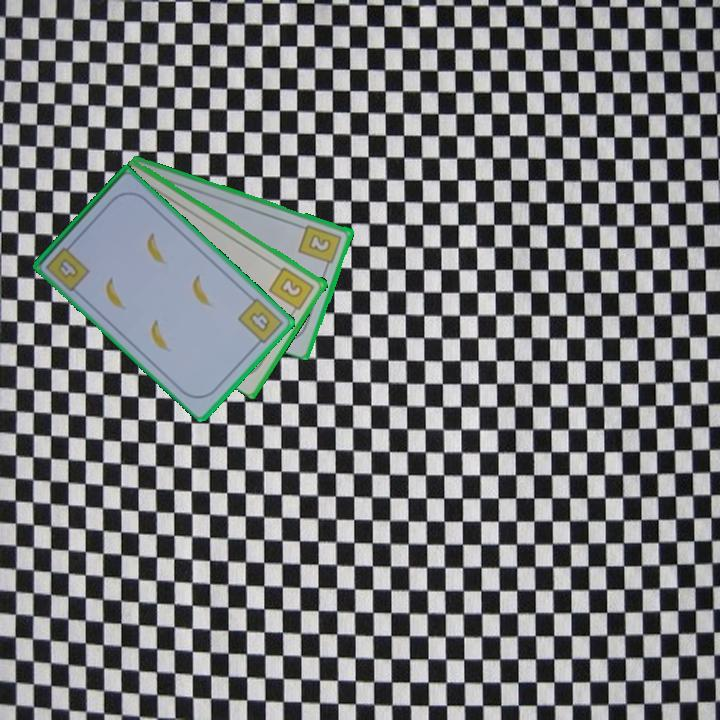2b: (266, 263, 317, 317), (296, 221, 345, 271)
4b: (234, 295, 286, 350), (42, 239, 93, 294)
